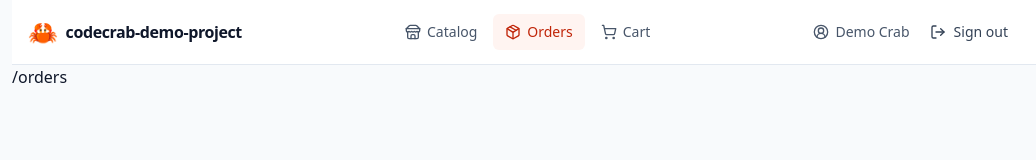
Test: Navbar › shows the user name and Orders link when signed in, and signs out
The image size is (1036, 160).
expect the text "Demo Crab" is shown: met, box 814,22 -> 910,42
expect the link "Orders" is shown: met, box 493,14 -> 585,50
Click the button "Sign out": (969, 32) 918,16 -> 1020,48
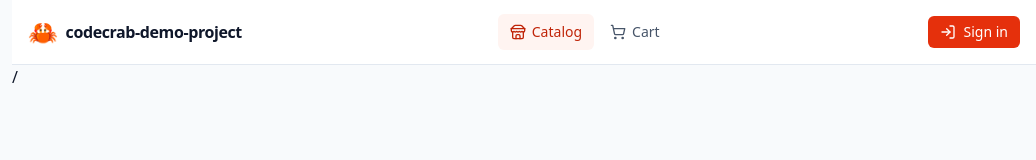
expect the text with test id "location" reads "/": met, box 12,66 -> 18,88
expect the button "Sign in" is shown: met, box 928,16 -> 1020,48
